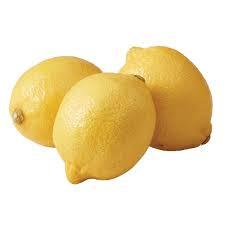lemon: (53, 72, 157, 184), (119, 46, 212, 151), (9, 56, 103, 147)
